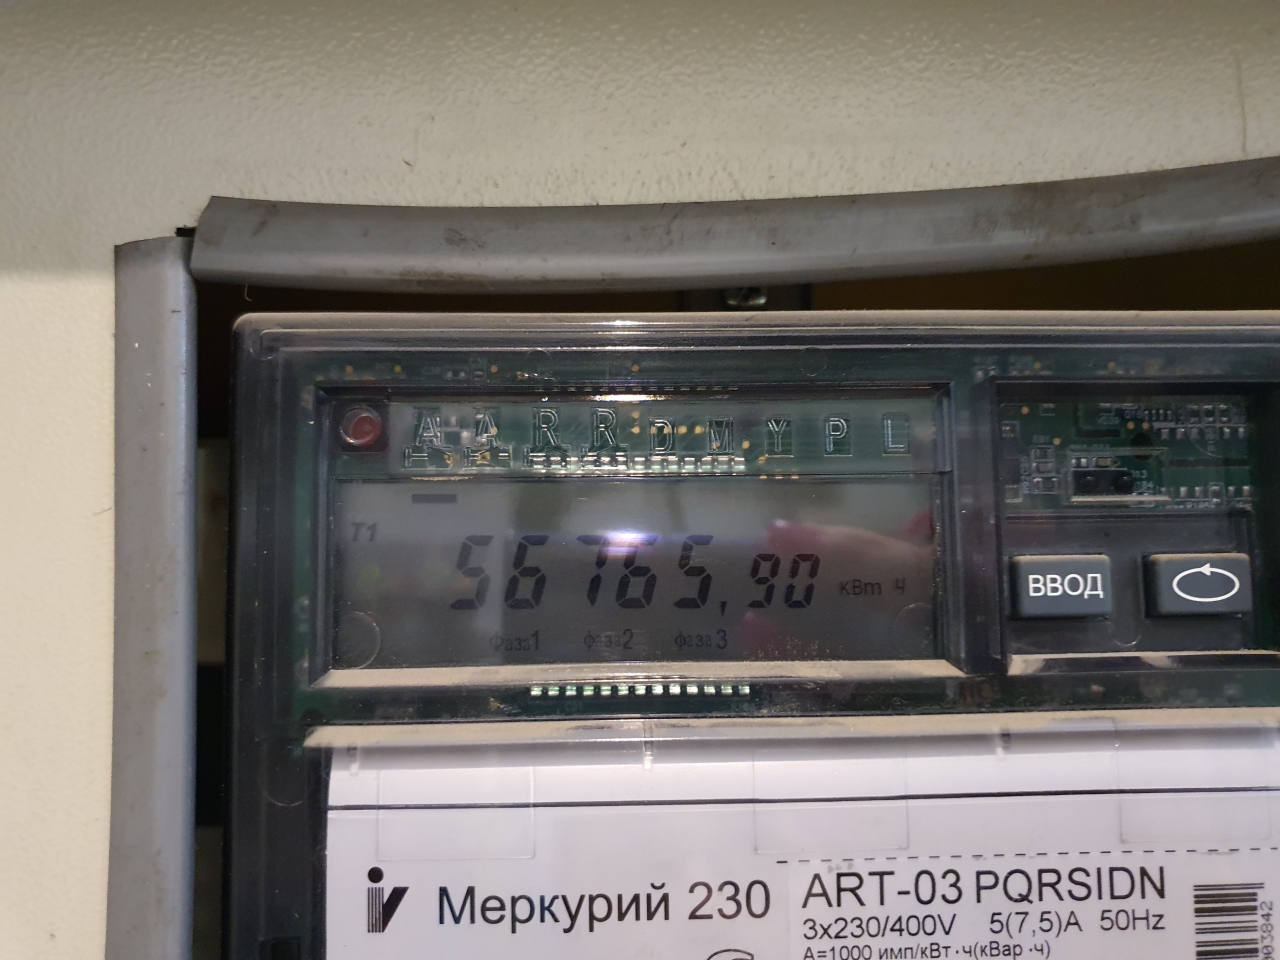screen: (300, 443, 971, 702)
